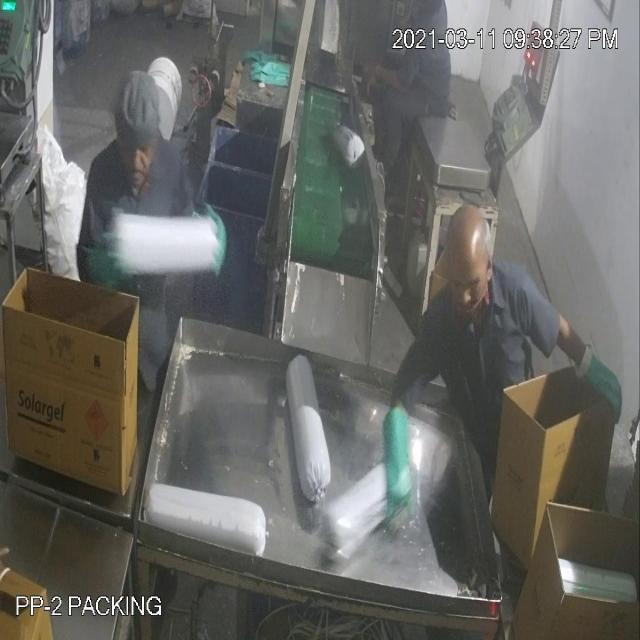Gloves: (43, 105, 599, 467)
